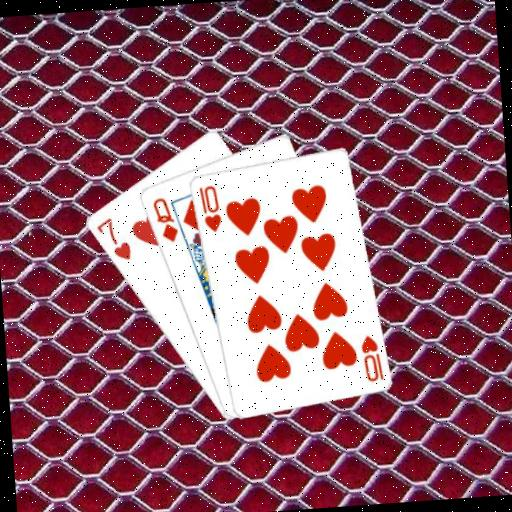10H: (357, 331, 386, 384), (195, 182, 223, 235)
7H: (92, 213, 133, 264)
QD: (148, 193, 180, 245)
